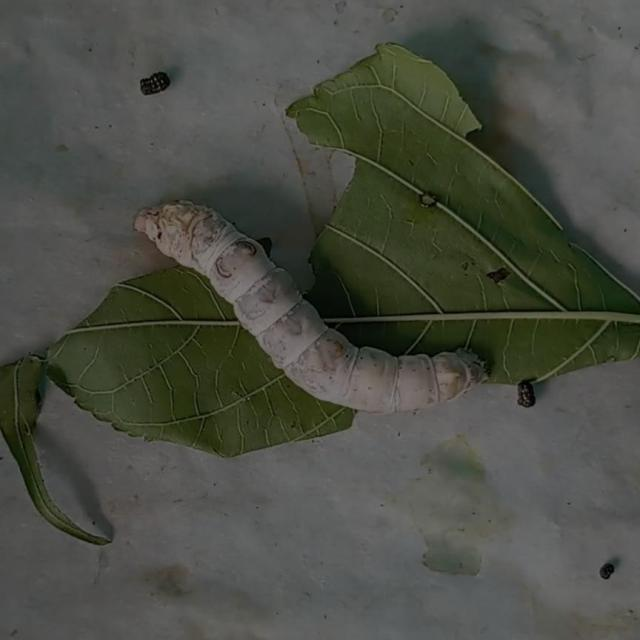Grasserie: (104, 175, 523, 454)
